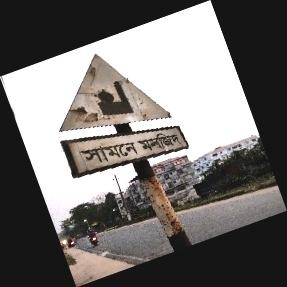Mosque in front: (57, 54, 185, 178)
